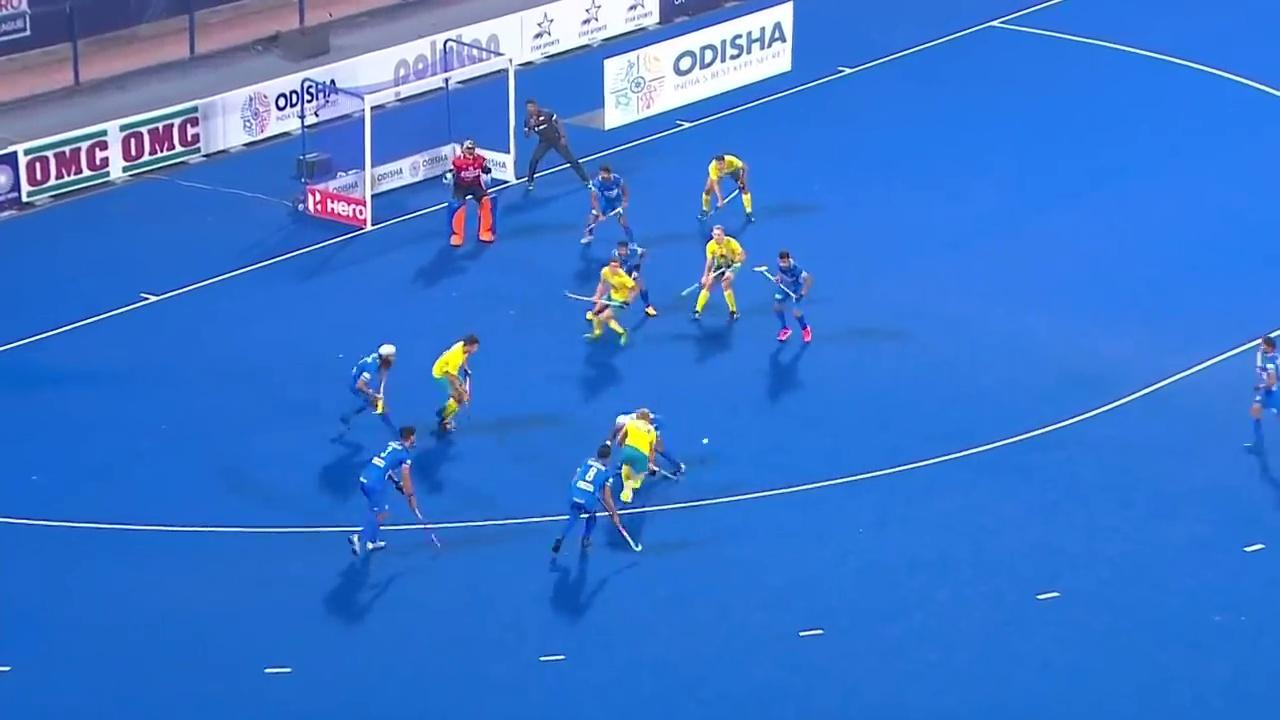ball: (697, 432, 714, 449)
